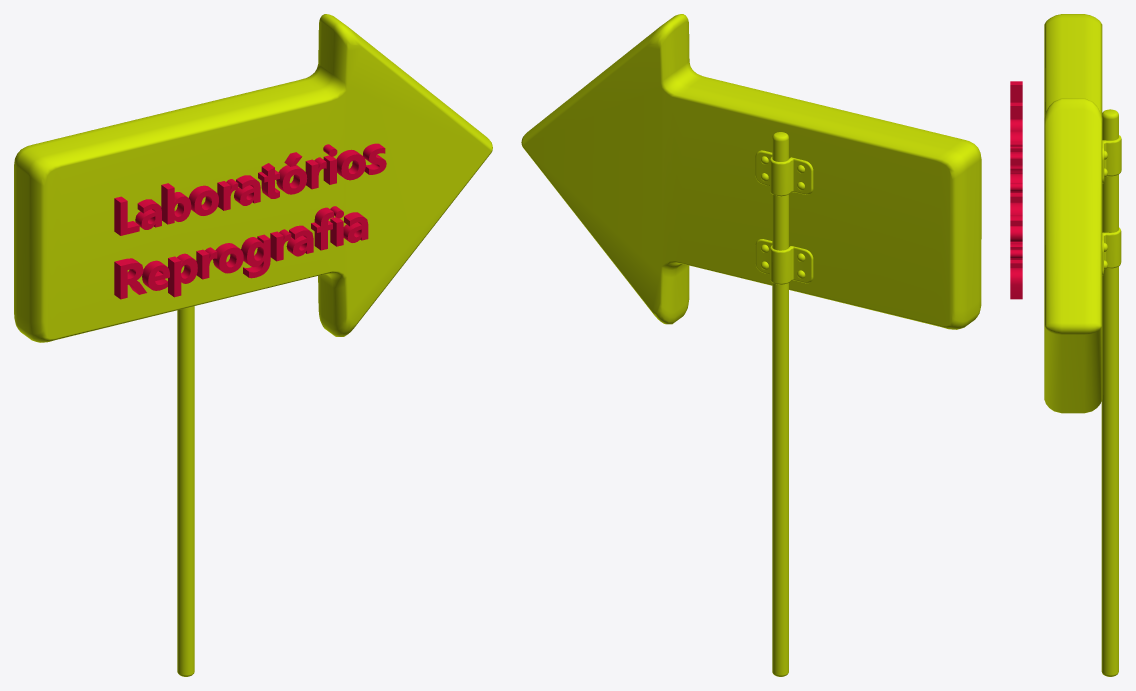
The model's file is SETA-LABORATORIOS-REPROGRAFIA.dae.
The picture shows the model from 3 angles, left to right: view 1: azimuth 30°, elevation 25°; view 2: azimuth 150°, elevation 25°; view 3: azimuth 270°, elevation 25°; orthographic projection. The views are drawn at different scales.
Visible parts, largest first — view 1: node_id30, mesh_id43, mesh_id42; view 2: node_id30; view 3: node_id30, mesh_id42, mesh_id43.
Boxes of the visible parts, x1,y1,x2,y2 form: node_id30: (14, 14, 492, 676); mesh_id43: (114, 206, 368, 299); mesh_id42: (114, 143, 386, 235); node_id30: (521, 14, 981, 676); node_id30: (1044, 14, 1121, 676); mesh_id42: (1010, 81, 1022, 241); mesh_id43: (1010, 242, 1022, 299).
Bounding box in the file's own units: 0.6481 × 0.1351 × 0.8556.
